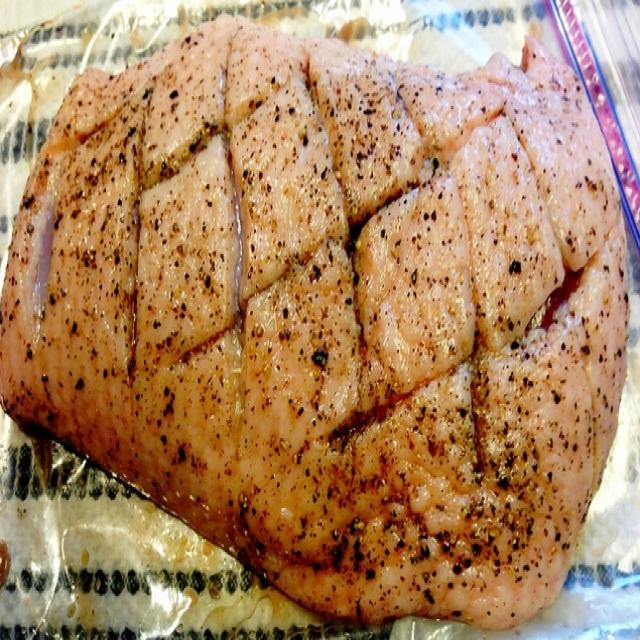烧串烤肉: (13, 15, 608, 609)
